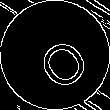O_NW: (22, 22, 88, 88)
